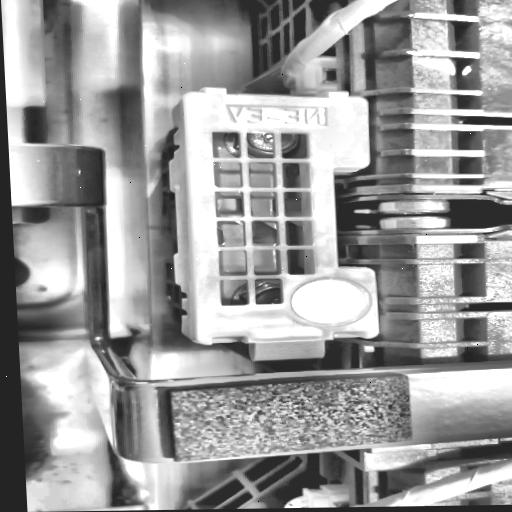busbar: (7, 141, 512, 466)
high_volt_cable: (263, 457, 512, 508), (265, 0, 412, 82)
